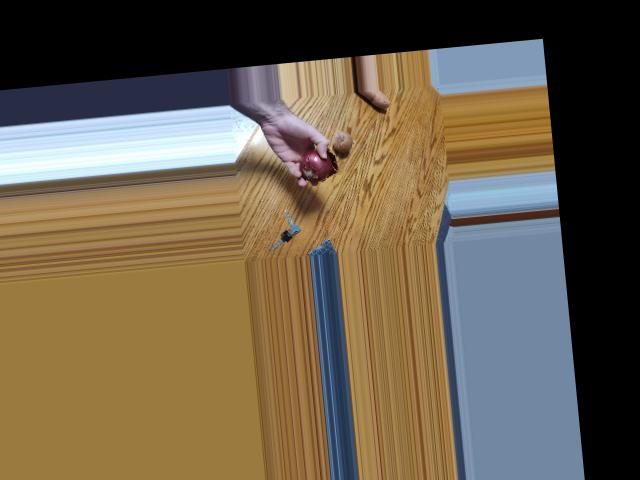onion: (299, 150, 332, 181)
